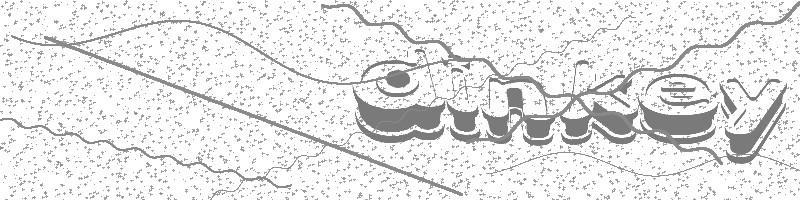d: (348, 48, 446, 141)
e: (637, 71, 721, 144)
k: (562, 53, 638, 150)
l: (440, 50, 485, 146)
n: (482, 68, 554, 149)
y: (721, 74, 788, 164)
